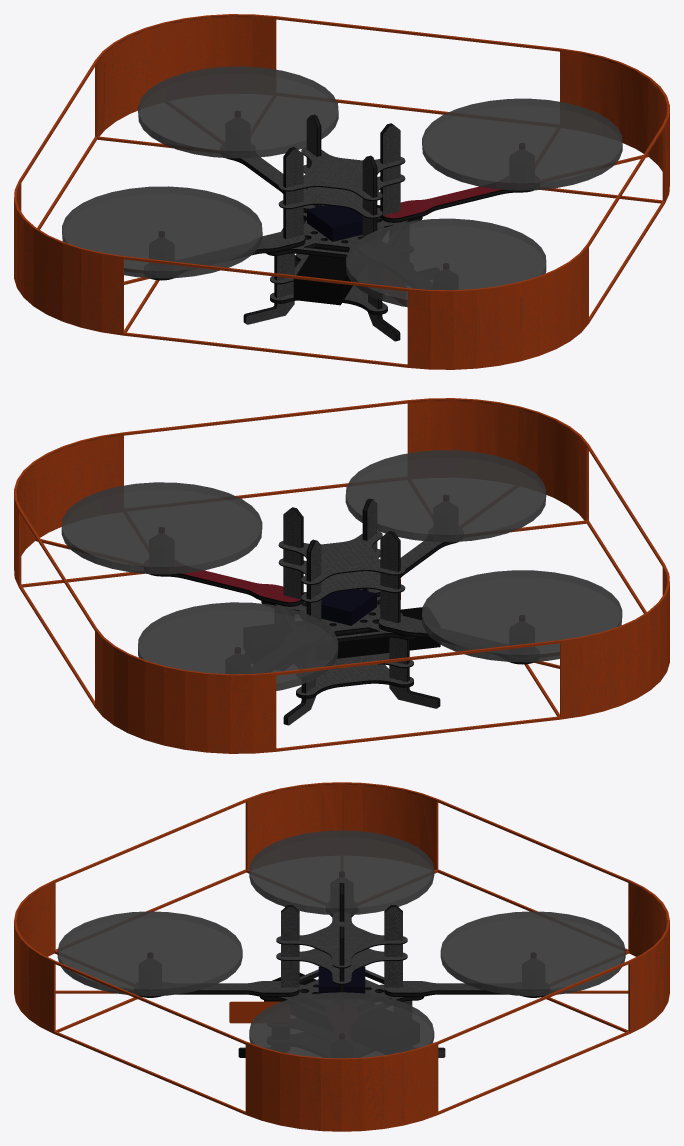
The model's file is pelican.dae.
3 renders of one model, top to bottom at view 1: azimuth 30°, elevation 25°; view 2: azimuth 150°, elevation 25°; view 3: azimuth 270°, elevation 25°, orthographic. The views are drawn at different scales.
Visible parts, largest first — view 1: skp7ESWWw (×26); view 2: skp7ESWWw (×26); view 3: skp7ESWWw (×23).
Part boxes in pixels (x1,y1,x2,y2): skp7ESWWw (×26): (14, 14, 669, 369); skp7ESWWw (×26): (14, 398, 669, 753); skp7ESWWw (×23): (14, 782, 669, 1131).
Size of the model in its own units: 27.92 by 27.92 by 7.1.
Materials: 8 (1 with a texture image).
